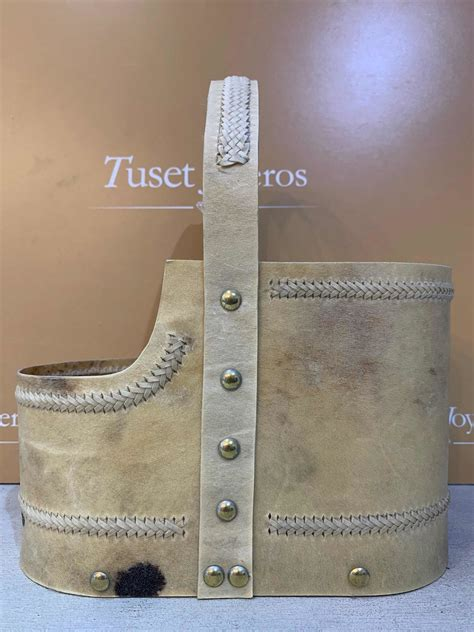cuero: (18, 72, 451, 599)
